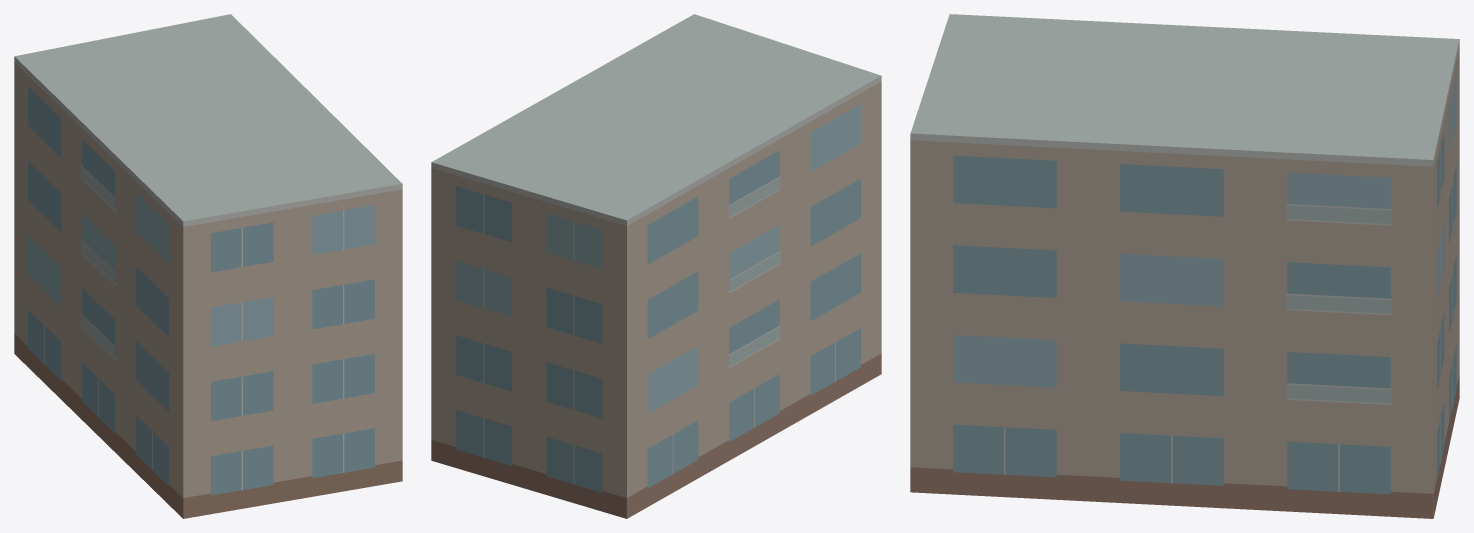
The model's file is survey-upis-32734374.glb.
3 views of the same model, side by side, from view 1: azimuth 30°, elevation 25°; view 2: azimuth 150°, elevation 25°; view 3: azimuth 270°, elevation 25° (orthographic). The views are drawn at different scales.
Parts seen in each view (by area): view 1: survey-upis-32734374.tmp; view 2: survey-upis-32734374.tmp; view 3: survey-upis-32734374.tmp.
Boxes of the visible parts, left/top/right/bottom form: survey-upis-32734374.tmp: left=14, top=14, right=402, bottom=518; survey-upis-32734374.tmp: left=431, top=14, right=881, bottom=518; survey-upis-32734374.tmp: left=910, top=14, right=1459, bottom=518.
Bounding box in the file's own units: 11.27 × 12.9 × 17.91.
